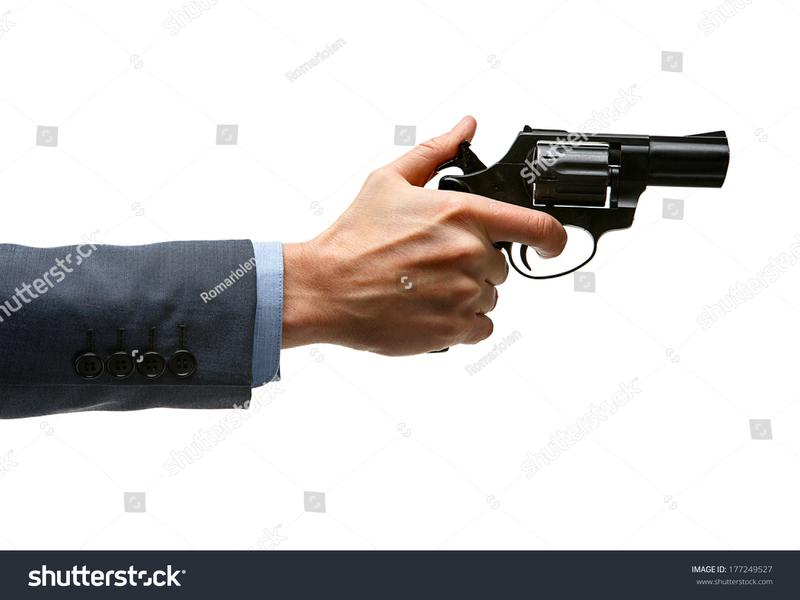Revolver: (439, 112, 746, 298)
